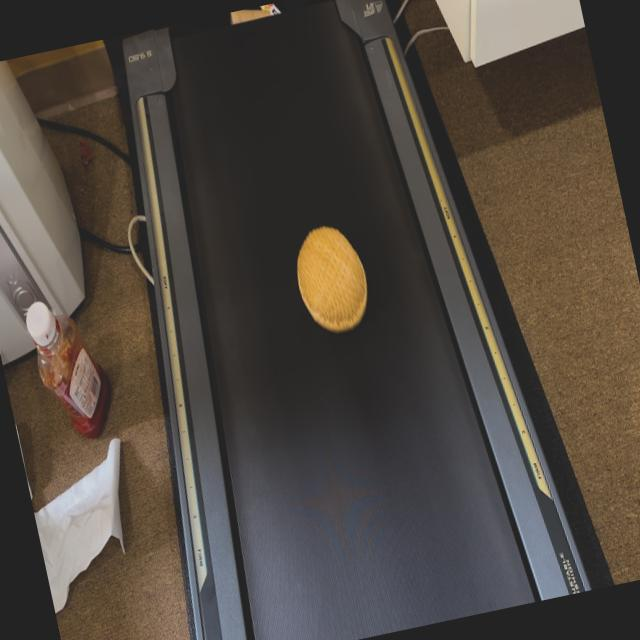Trash: (268, 170, 397, 346), (273, 176, 401, 347)
